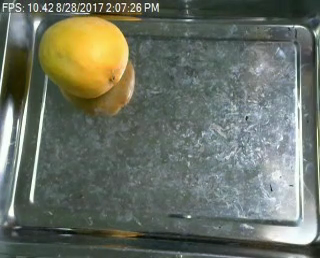Mango: (39, 13, 131, 99)
